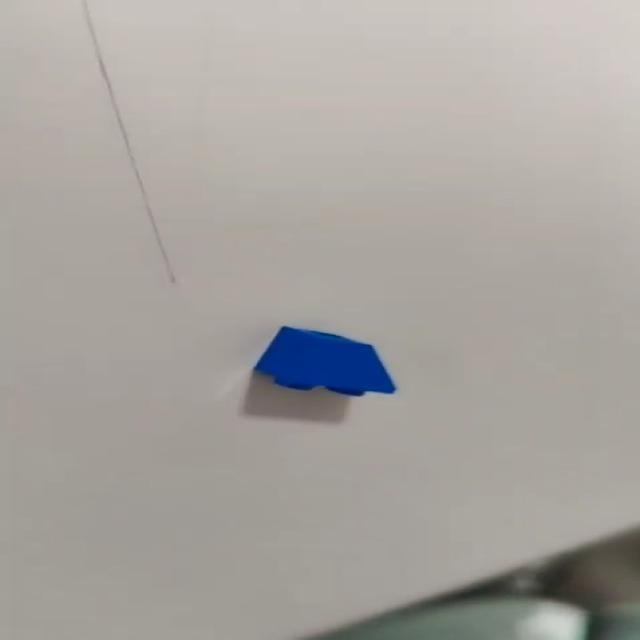X1x2x1: (248, 325, 400, 402)
